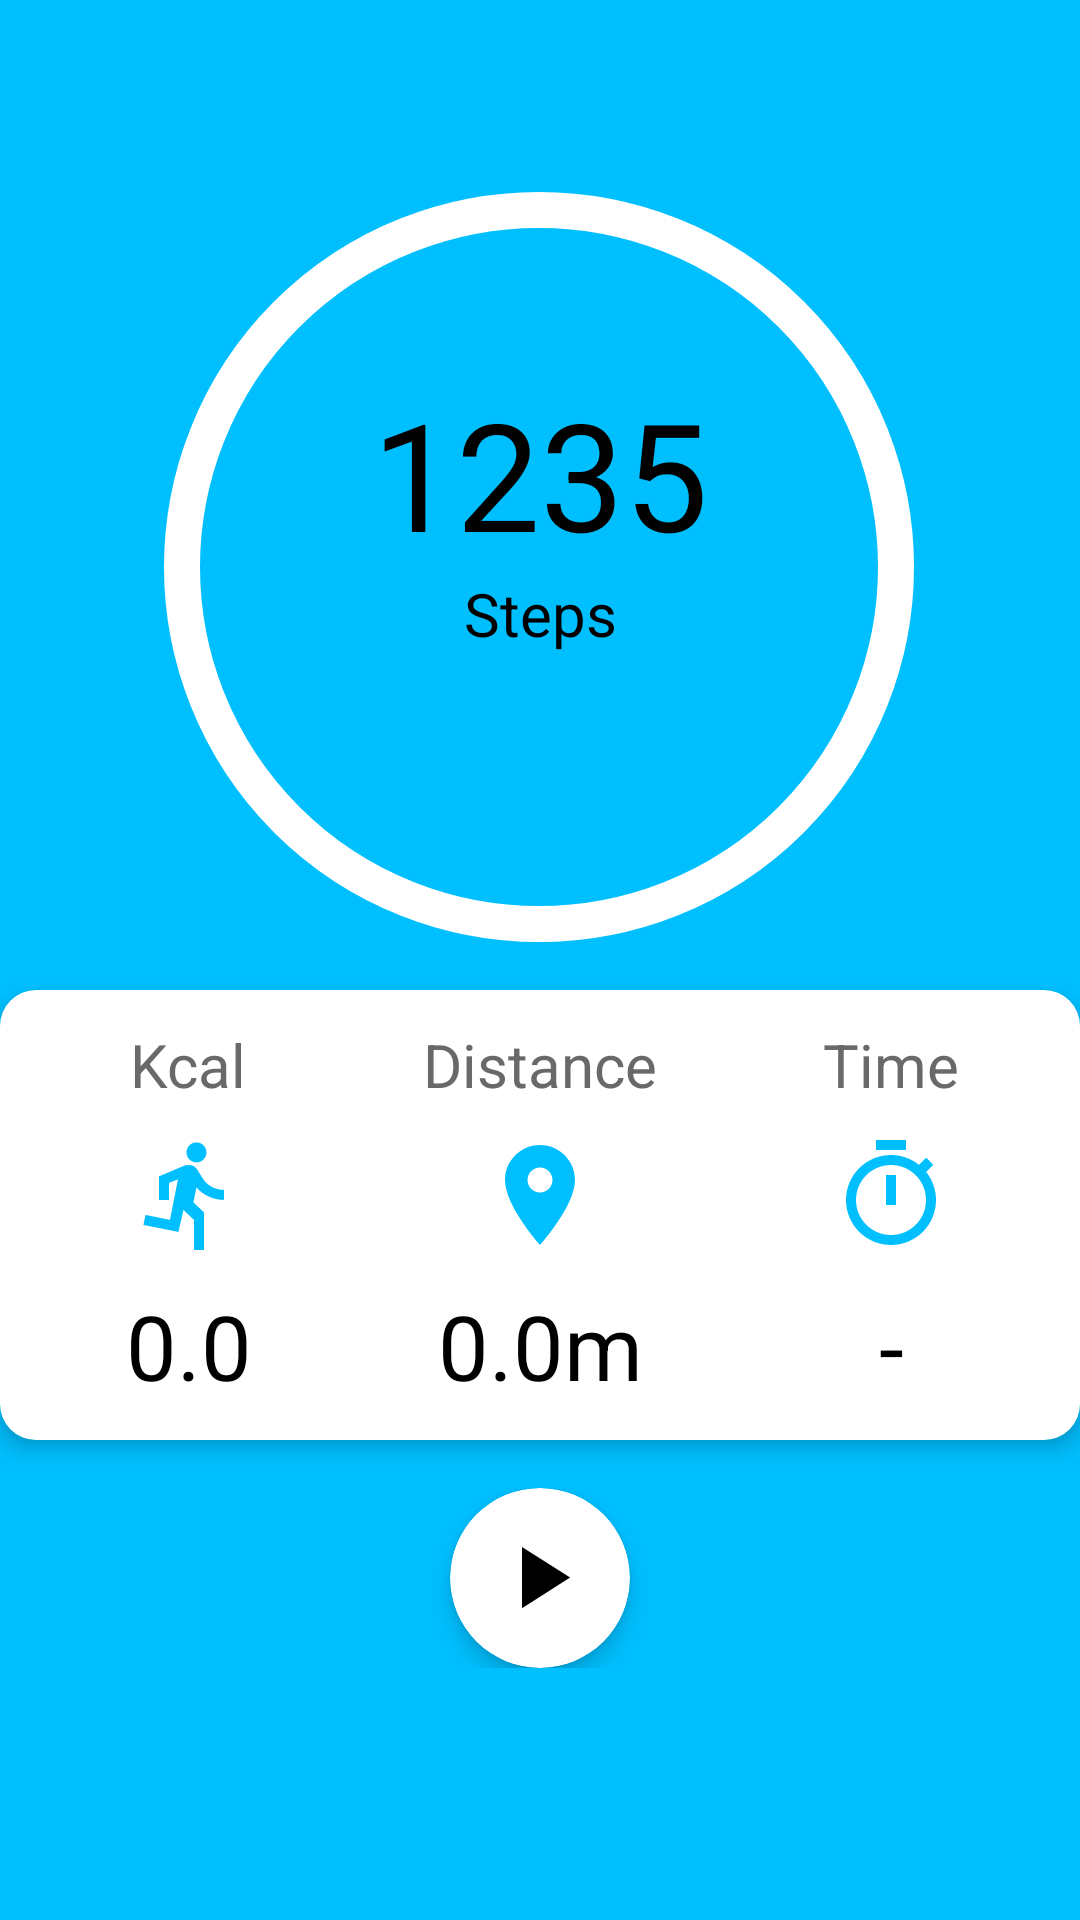

Icons on this 1080px×1920px Android screen, each with its box as (x1, y1, x2, y2):
play arrow: (522, 1547, 570, 1608)
tim: (846, 1140, 936, 1245)
